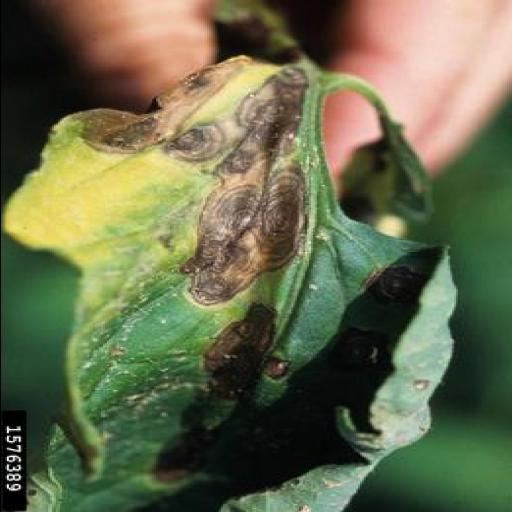Early Blight: (0, 59, 455, 512)
